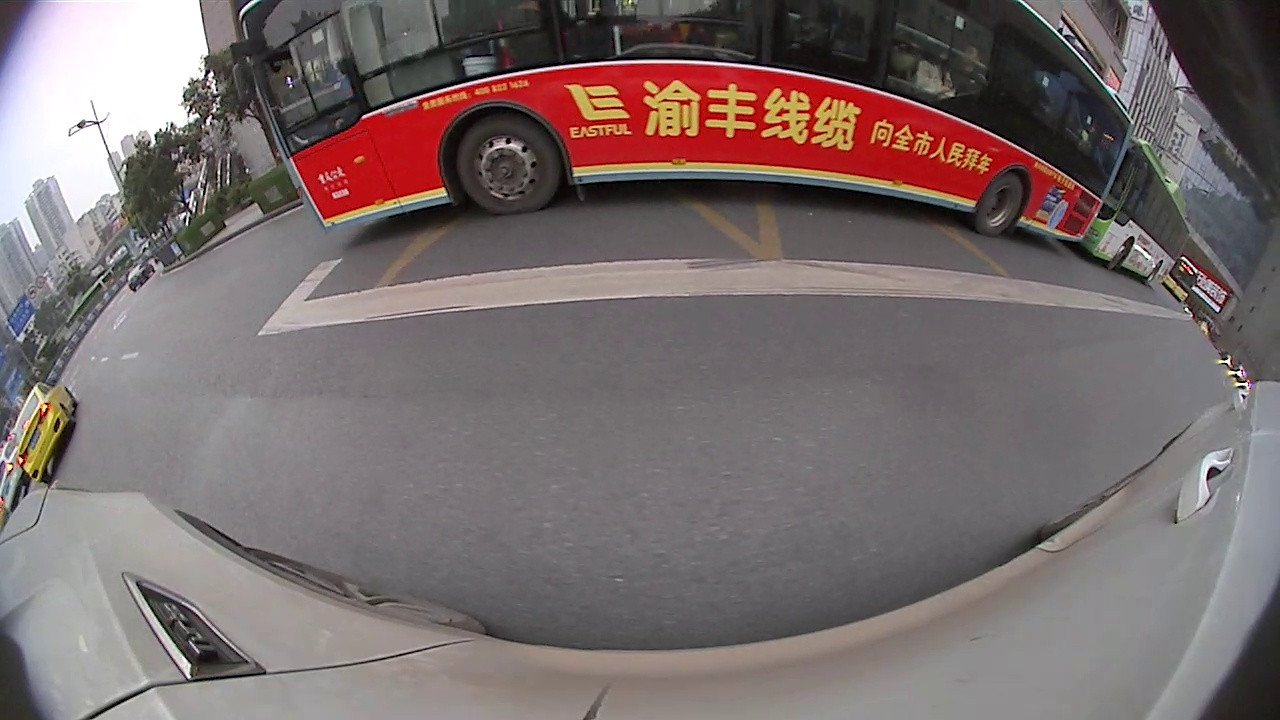bus: (235, 0, 1132, 242), (1076, 141, 1191, 286), (1163, 256, 1200, 303)
car: (10, 381, 82, 482), (0, 443, 35, 512), (126, 262, 153, 290)
front: (453, 121, 569, 212)
rear: (979, 164, 1027, 236)
